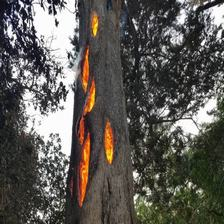fire: (76, 19, 125, 211)
